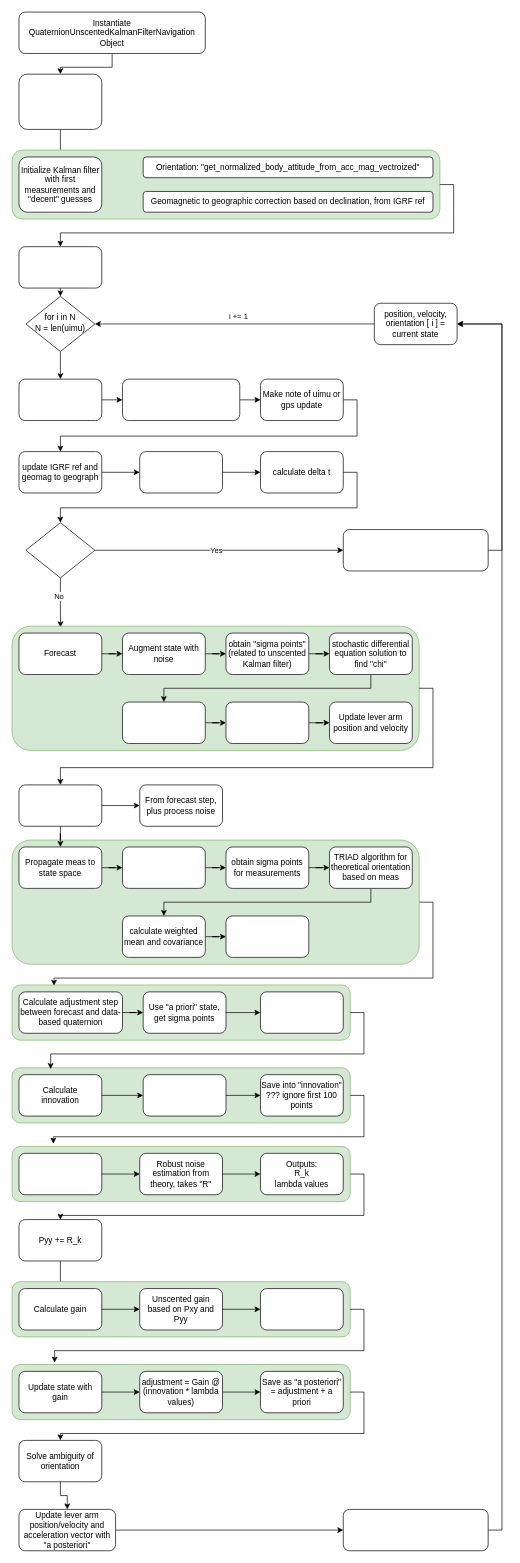
This 520x1563 diagram has some shape labels left out. Each missing label, with the centre of its shape:
"Adaptive step calculation": (60,1174)
Assign measurement type: (181,472)
Calculate covariance (Pxx): (60,805)
Copy initial parameters into "a priori" state: (60,267)
current state = a posteriori: (415,1530)
current state = a priori state: (415,550)
delta t too large: (60,550)
Fill measurement parameters with proper measurements based on index: (181,399)
find weighted mean: (163,722)
Gain = Pxy @ linalg.solve(Pyy, Identity): (301,1309)
Keep track of index for uimu and gps: (60,399)
Read in GPS data Obtain IGRF ref. for whole flight: (60,101)
Read type of measurement: (163,867)
Save as variables: mean = y_z covariance = "R": (267,936)
update "a priori" state and body acc with solution: (267,722)
Weighted means = y "variance" = Pyy "covariance" = Pxy: (301,1012)
y_z - y: (184,1095)
